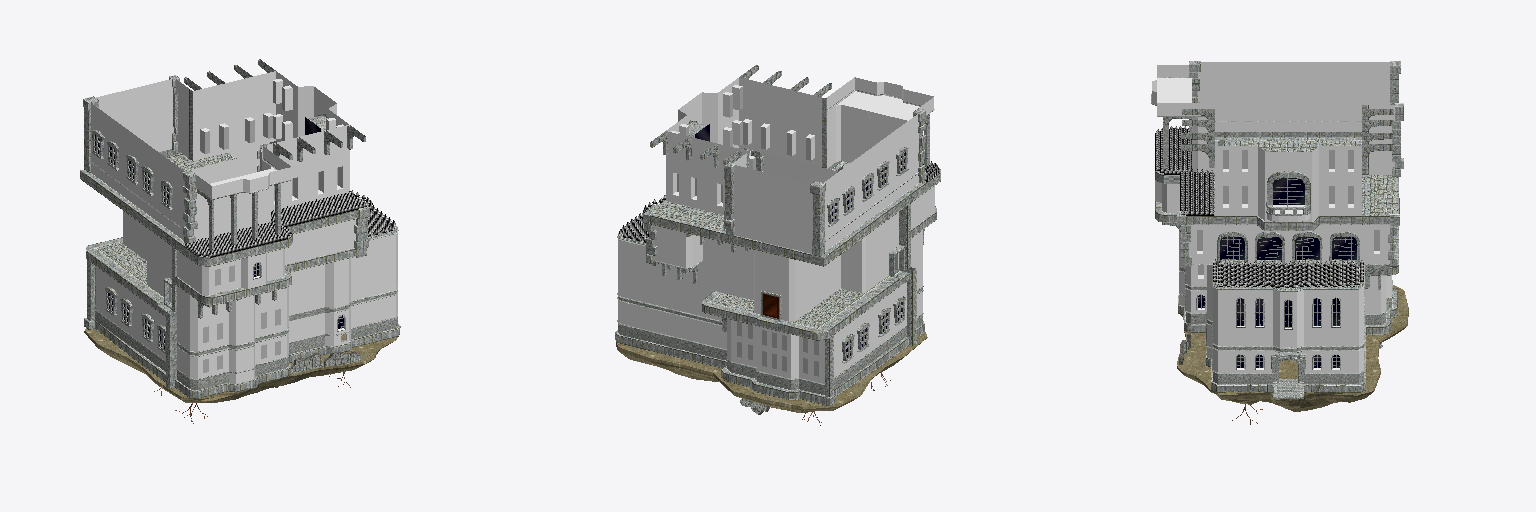
3 views of the same model, side by side, from view 1: azimuth 30°, elevation 25°; view 2: azimuth 150°, elevation 25°; view 3: azimuth 270°, elevation 25° (orthographic).
Parts seen in each view (by area): view 1: stone5, stone2, stone6, stone1, env1, dirt, stone4, winout; view 2: stone5, stone2, stone6, stone1, dirt, stone4, winout, env1; view 3: stone5, stone2, env1, stone1, stone6, dirt, outglass, stone4, winout.
Boxes of the visible parts, x1=… form: stone5: x1=91, y1=71, x2=397, y2=383; stone2: x1=80, y1=75, x2=400, y2=398; stone6: x1=92, y1=59, x2=365, y2=353; stone1: x1=95, y1=198, x2=398, y2=389; env1: x1=184, y1=190, x2=395, y2=257; dirt: x1=84, y1=304, x2=398, y2=402; stone4: x1=98, y1=153, x2=394, y2=373; winout: x1=203, y1=81, x2=337, y2=372; stone5: x1=618, y1=77, x2=934, y2=383; stone2: x1=615, y1=90, x2=940, y2=405; stone6: x1=650, y1=65, x2=929, y2=363; stone1: x1=617, y1=125, x2=923, y2=394; dirt: x1=616, y1=332, x2=927, y2=412; stone4: x1=621, y1=201, x2=865, y2=413; winout: x1=677, y1=87, x2=898, y2=376; env1: x1=619, y1=161, x2=940, y2=242; stone5: x1=1152, y1=62, x2=1394, y2=372; stone2: x1=1151, y1=61, x2=1403, y2=398; env1: x1=1155, y1=126, x2=1363, y2=287; stone1: x1=1179, y1=178, x2=1392, y2=383; stone6: x1=1162, y1=101, x2=1393, y2=398; dirt: x1=1177, y1=285, x2=1408, y2=411; outglass: x1=1198, y1=178, x2=1356, y2=367; stone4: x1=1183, y1=141, x2=1397, y2=360; winout: x1=1197, y1=150, x2=1379, y2=274.
Bounding box in the file's own units: 7638 × 8089 × 6758.
Materials: 13 (11 with a texture image).